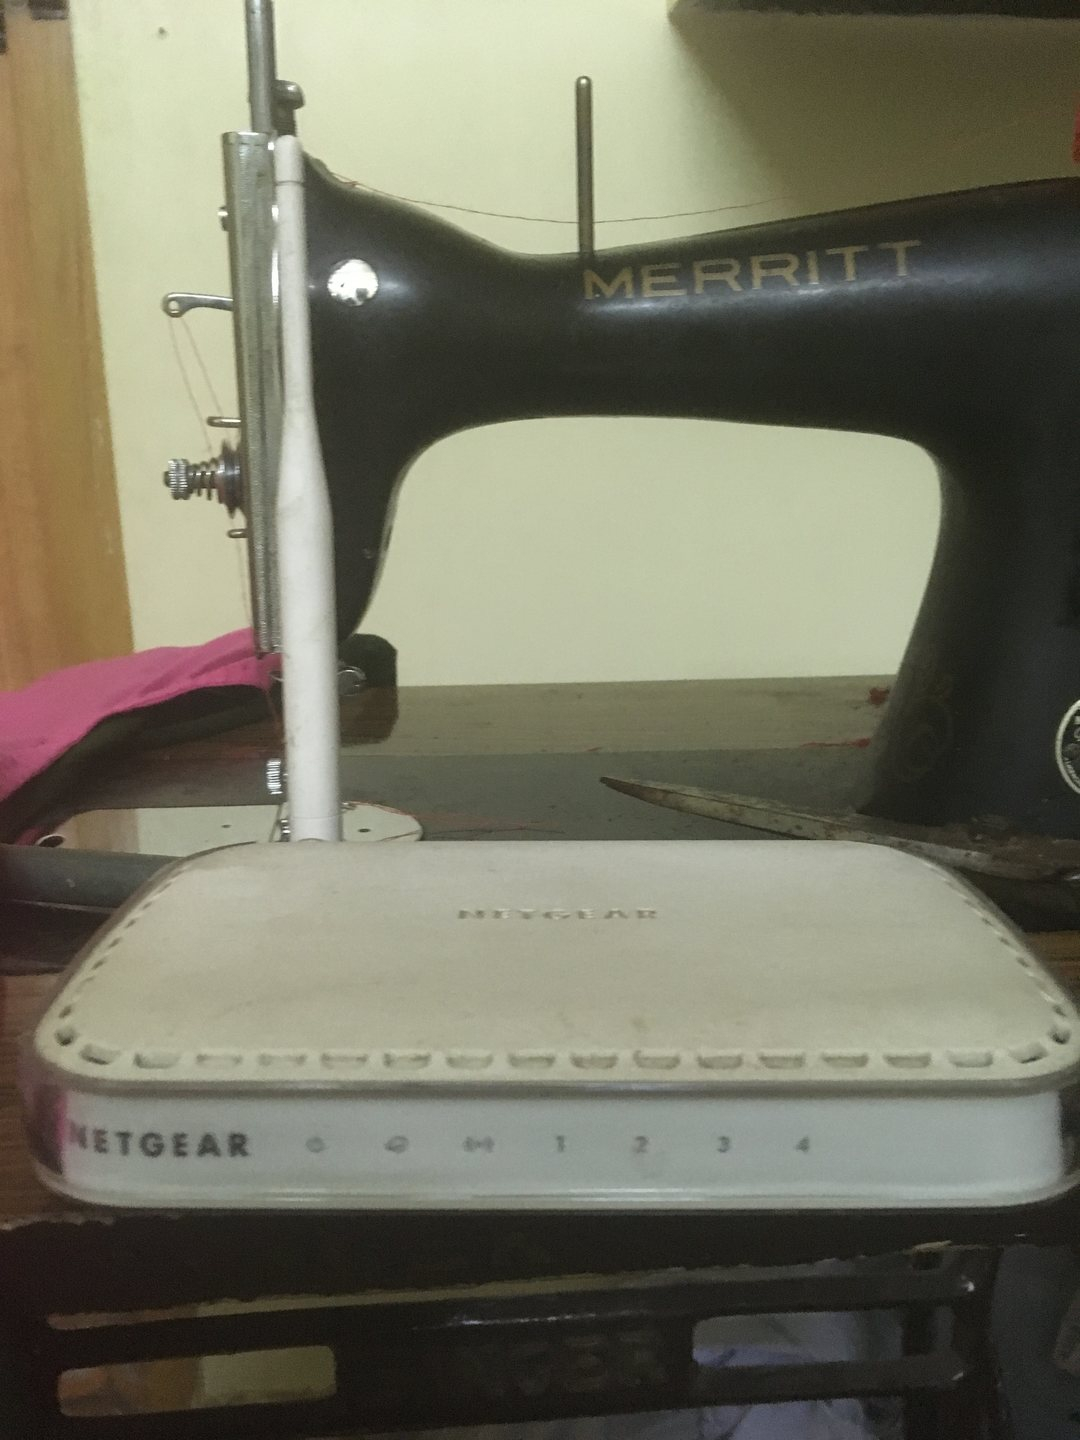NETGEAR: (54, 1110, 260, 1164)
modem: (20, 1031, 1075, 1212)
